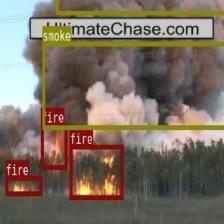fire: (69, 144, 122, 199), (41, 123, 66, 168), (5, 175, 42, 195)
smoke: (42, 40, 224, 128), (55, 0, 224, 14)
